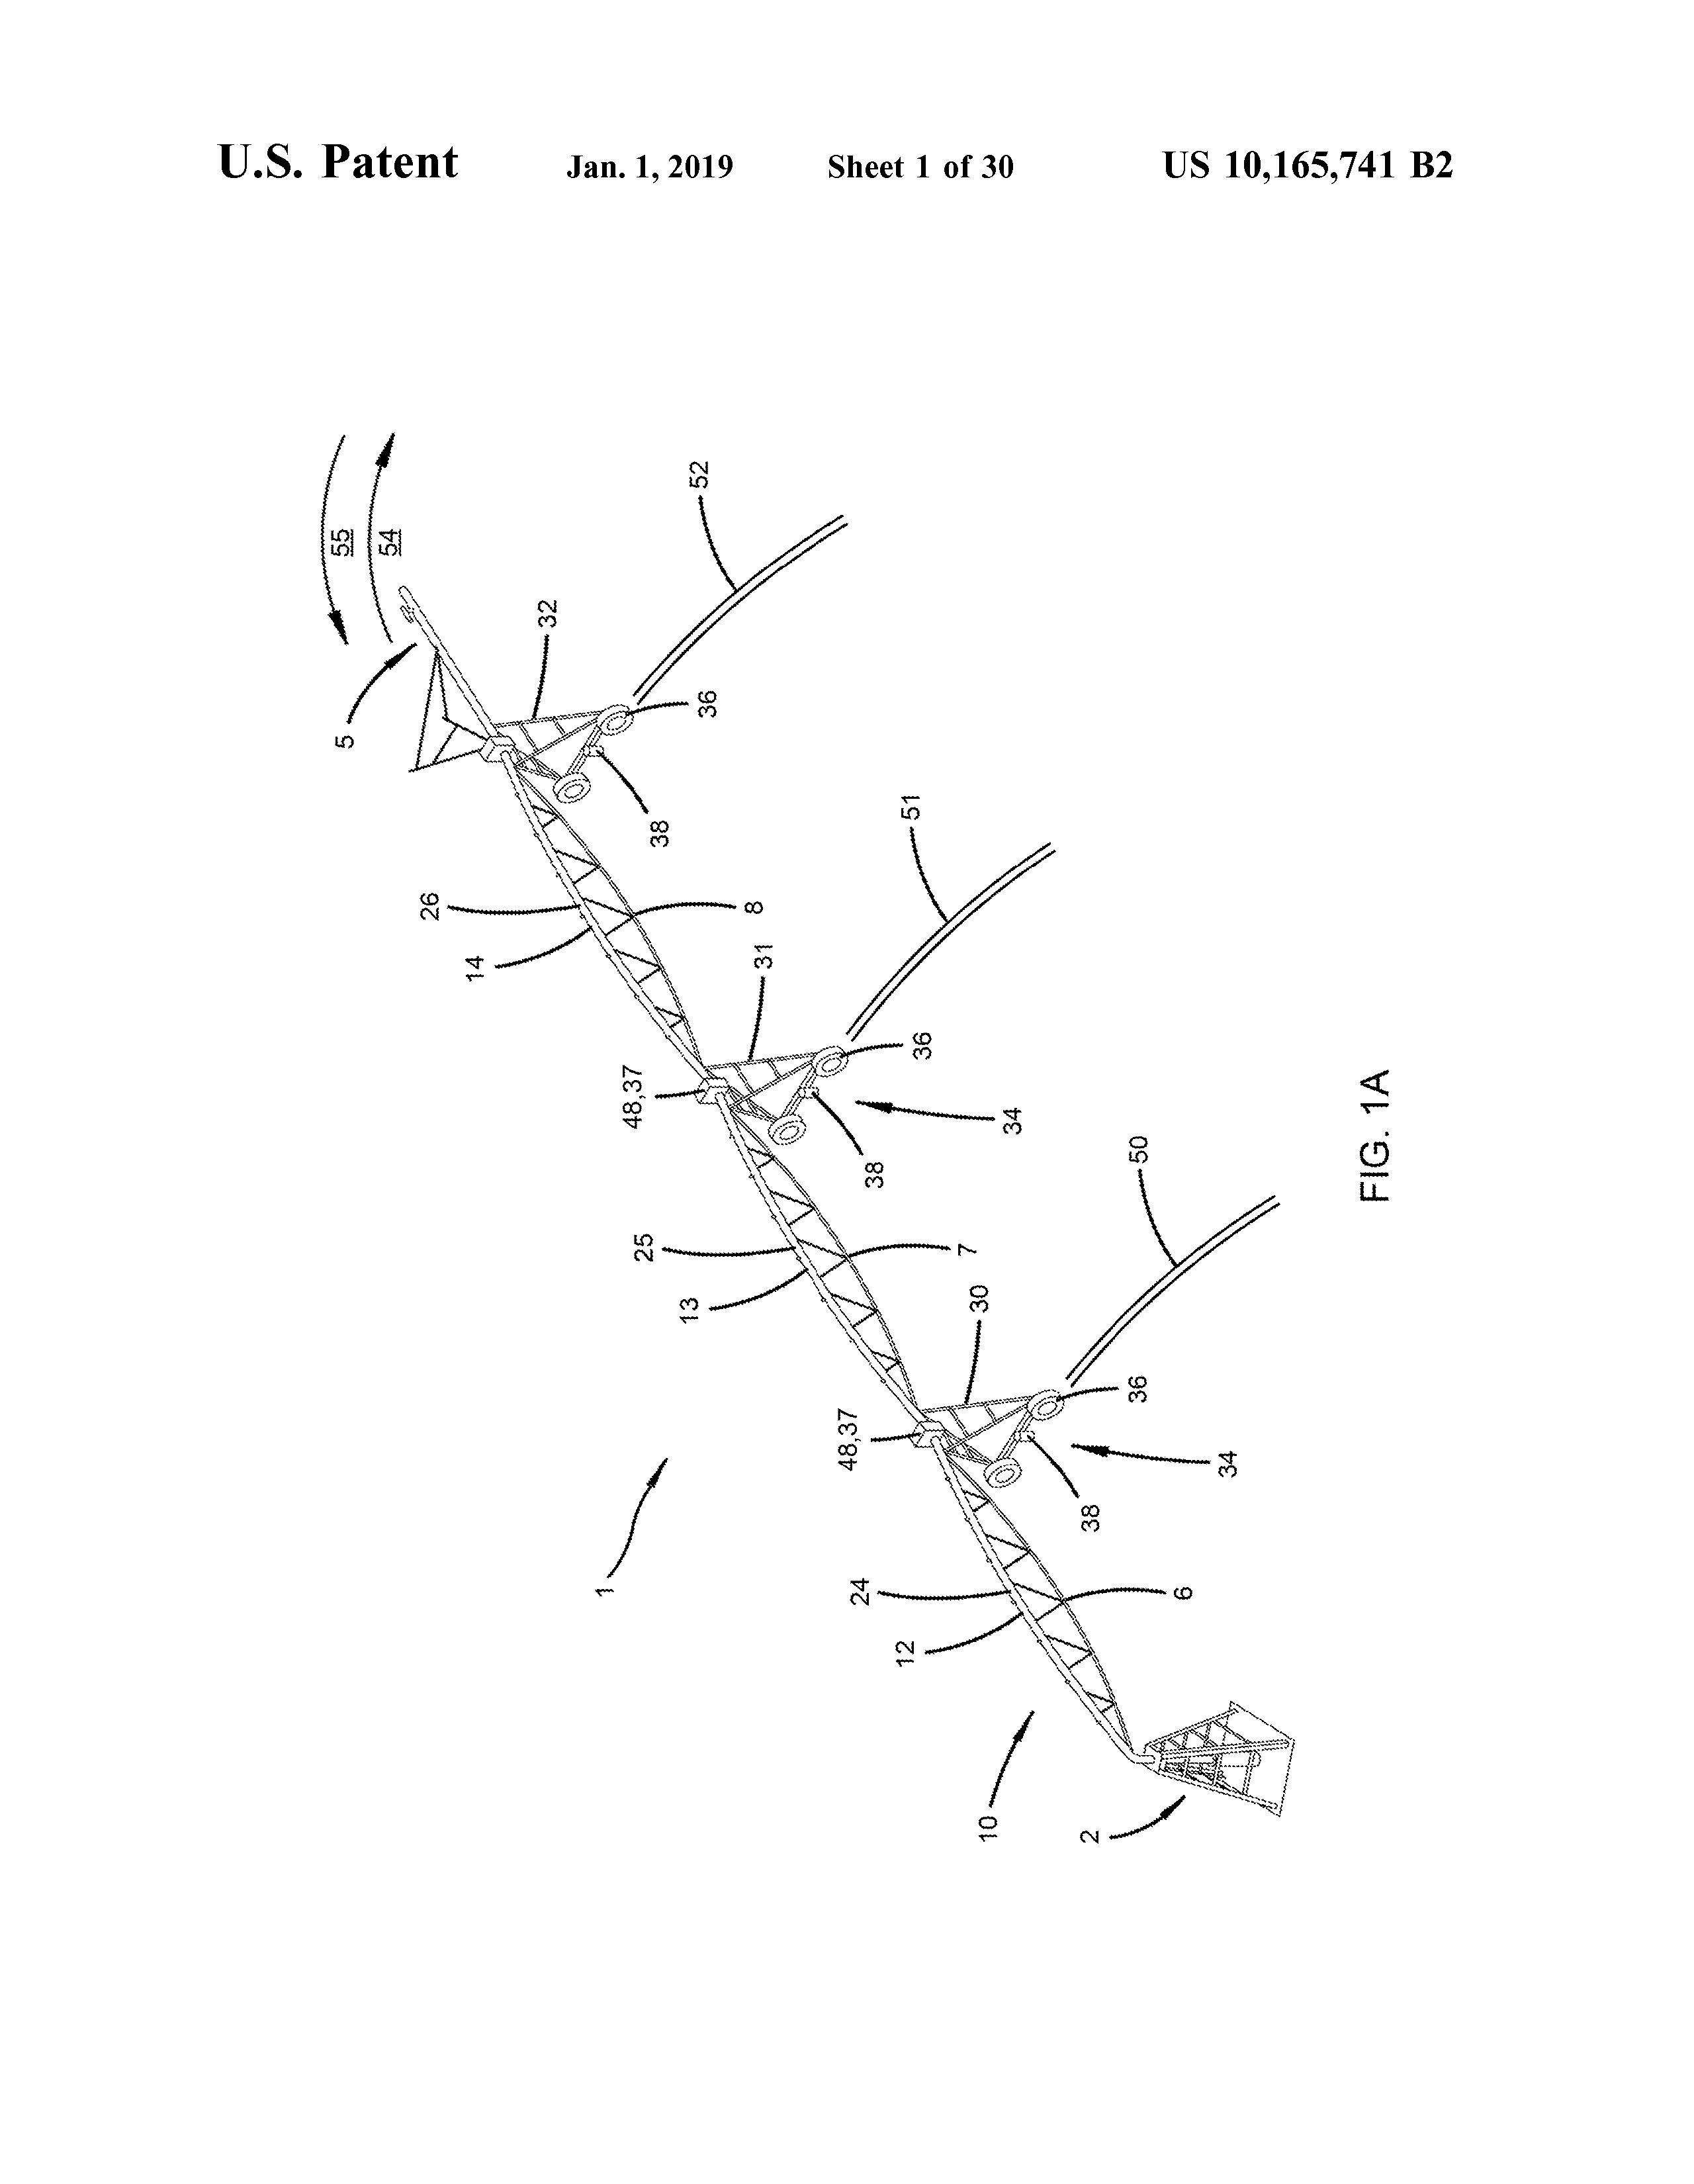patent image: (201, 275, 1535, 1969)
